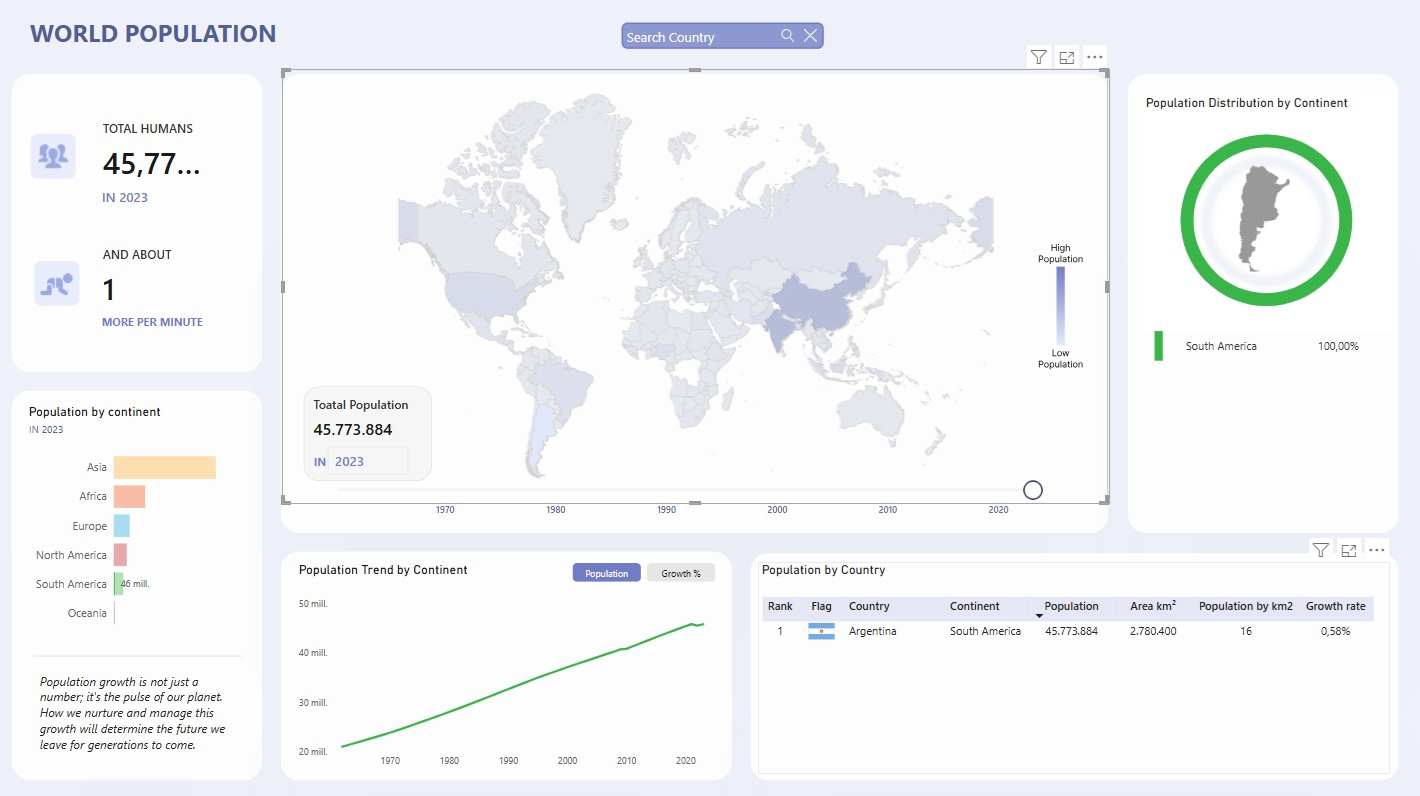

The page's visual inventory and layout, read from the dashboard file:
{"tool":"powerbi","page":{"name":"Population","canvas":[1920,1080],"ordinal":0},"visuals":[{"type":"group","id":"g1","title":"Map","box":[401,101,1100,578.7],"z":0},{"type":"shapeMap","fields":{"Category":["Country2.Country"],"Value":["Sum(Country2.Value)"]},"box":[401.7,101.1,1099.3,578.6],"z":0,"group":"g1"},{"type":"shapeMap","fields":{"Category":["Countries.Country"],"Value":["Population.Latest Population Count"]},"box":[1625.3,216,162.6,166.8],"z":0,"group":"g3"},{"type":"clusteredColumnChart","fields":{"Y":["Population.Total Population 2"],"Category":["Years.Date"]},"box":[465.7,593.8,963.7,112],"z":0,"group":"g2"},{"type":"shapeMap","fields":{"Category":["Countries.Country"],"Value":["Population.Latest Population Count"]},"box":[401,101,1098.4,578],"z":1000,"group":"g1"},{"type":"shape","box":[1614.8,208.4,190,190],"z":1000,"group":"g3"},{"type":"slicer","fields":{"Values":["Years2.Years2"]},"box":[448,594.1,972.3,122.4],"z":1000,"group":"g2"},{"type":"tableEx","title":"Population by Country","fields":{"Values":["_Measures.Ranking","Countries.Flag","Countries.Country","Countries.Continent","Population.Latest Population Count","Countries.Area km²","Population.Population by km2","_Measures.Growth rate 2"]},"box":[1033.7,756.7,840.8,282.6],"z":1000},{"type":"tableEx","fields":{"Values":["Countries.Continent 2","Countries.Blank","Countries.Continent","Population.Latest Population Count"]},"box":[1554.7,395.6,319.8,314.3],"z":2000},{"type":"textbox","box":[422.7,608.6,41.3,34.5],"z":2000,"group":"g2"},{"type":"cardVisual","title":"TOTAL HUMANS","fields":{"Data":["Population.Latest Population Count"]},"box":[419,508.1,186.2,146.3],"z":3000},{"type":"lineChart","fields":{"Y":["_Measures.Total Population"],"Series":["Countries.Continent"],"Category":["Years.Year"]},"box":[418.2,757,568.7,282.4],"z":4000},{"type":"cardVisual","title":"TOTAL HUMANS","fields":{"Data":["Population.Latest Population Count"]},"box":[145,151.6,207.5,102.4],"z":5000},{"type":"cardVisual","title":"ABOUT","fields":{"Data":["Population.Birt Rate per minute"]},"box":[145.3,319.2,196.8,107.7],"z":6000},{"type":"multiRowCard","fields":{"Values":["Years.in Year label"]},"box":[155.9,254,115.7,42.6],"z":7000},{"type":"textbox","box":[155.6,421.6,174.2,50.5],"z":8000},{"type":"textbox","box":[60.3,25.5,365.8,63],"z":9000},{"type":"clusteredBarChart","title":"Population by continent","fields":{"Category":["Countries.Continent"],"Y":["_Measures.Latest Population Count"]},"box":[57.9,547.2,314.3,314.3],"z":10000},{"type":"textbox","box":[73.1,898.7,274.3,140.6],"z":11000},{"type":"advancedSlicerVisual","fields":{"Values":["Pop Parameter.Pop Parameter"]},"box":[780.7,754.1,203.5,33.3],"z":12000},{"type":"group","id":"g2","title":"year_slicer","box":[422.7,593.8,1006.6,122.6],"z":16000},{"type":"donutChart","title":"Population Distribution by Continent","fields":{"Category":["Countries.Continent"],"Y":["Population.Latest Population Count"]},"box":[1543.7,135.1,330.8,314.3],"z":17000},{"type":"group","id":"g3","title":"mini_map","box":[1614.8,208.4,190,190],"z":18000},{"type":"textSearchSlicerF85E2E78BE4A4D7D9F99ED75B5D71C85","fields":{"fields":["Countries.Country"]},"box":[841.9,29.3,288.6,58.5],"z":19000}]}

Visuals, with their boxes in screenshot pixels (x1, y1, x2, y2), scaled from the page's 1920x1080 canvas onto the 1420x796 screenshot:
"Map" group: box(297, 74, 1110, 501)
shapeMap - Country2.Country x Sum(Country2.Value): box(297, 75, 1110, 501)
shapeMap - Countries.Country x Population.Latest Population Count: box(1202, 159, 1322, 282)
clusteredColumnChart - Population.Total Population 2 x Years.Date: box(344, 438, 1057, 520)
shapeMap - Countries.Country x Population.Latest Population Count: box(297, 74, 1109, 500)
shape: box(1194, 154, 1335, 294)
slicer - Years2.Years2: box(331, 438, 1050, 528)
"Population by Country" tableEx: box(765, 558, 1386, 766)
tableEx - Countries.Continent 2 x Countries.Blank: box(1150, 292, 1386, 523)
textbox: box(313, 449, 343, 474)
"TOTAL HUMANS" cardVisual: box(310, 374, 448, 482)
lineChart - _Measures.Total Population x Countries.Continent: box(309, 558, 730, 766)
"TOTAL HUMANS" cardVisual: box(107, 112, 261, 187)
"ABOUT" cardVisual: box(107, 235, 253, 315)
multiRowCard - Years.in Year label: box(115, 187, 201, 219)
textbox: box(115, 311, 244, 348)
textbox: box(45, 19, 315, 65)
"Population by continent" clusteredBarChart: box(43, 403, 275, 635)
textbox: box(54, 662, 257, 766)
advancedSlicerVisual - Pop Parameter.Pop Parameter: box(577, 556, 728, 580)
"year_slicer" group: box(313, 438, 1057, 528)
"Population Distribution by Continent" donutChart: box(1142, 100, 1386, 331)
"mini_map" group: box(1194, 154, 1335, 294)
textSearchSlicerF85E2E78BE4A4D7D9F99ED75B5D71C85 - Countries.Country: box(623, 22, 836, 65)
